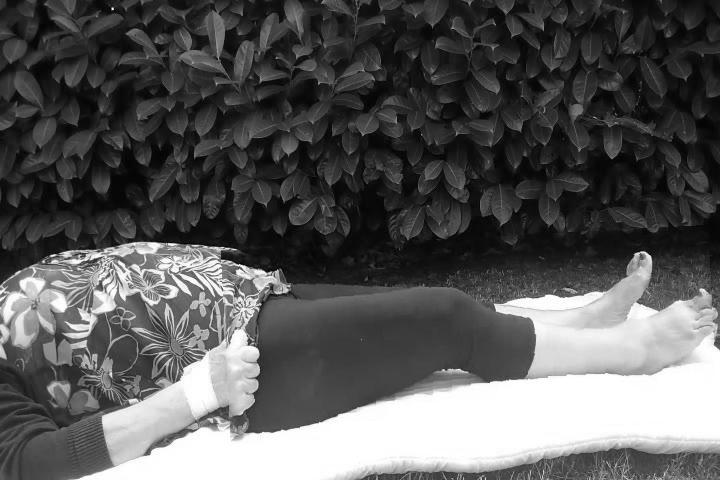lower_body: (225, 232, 717, 441)
